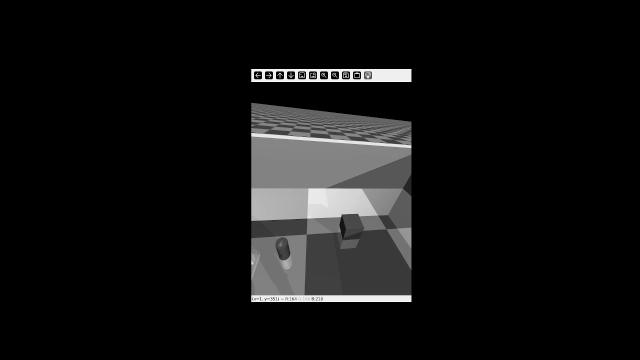cilindro: (274, 232, 296, 264)
cuadrado: (338, 210, 364, 241)
